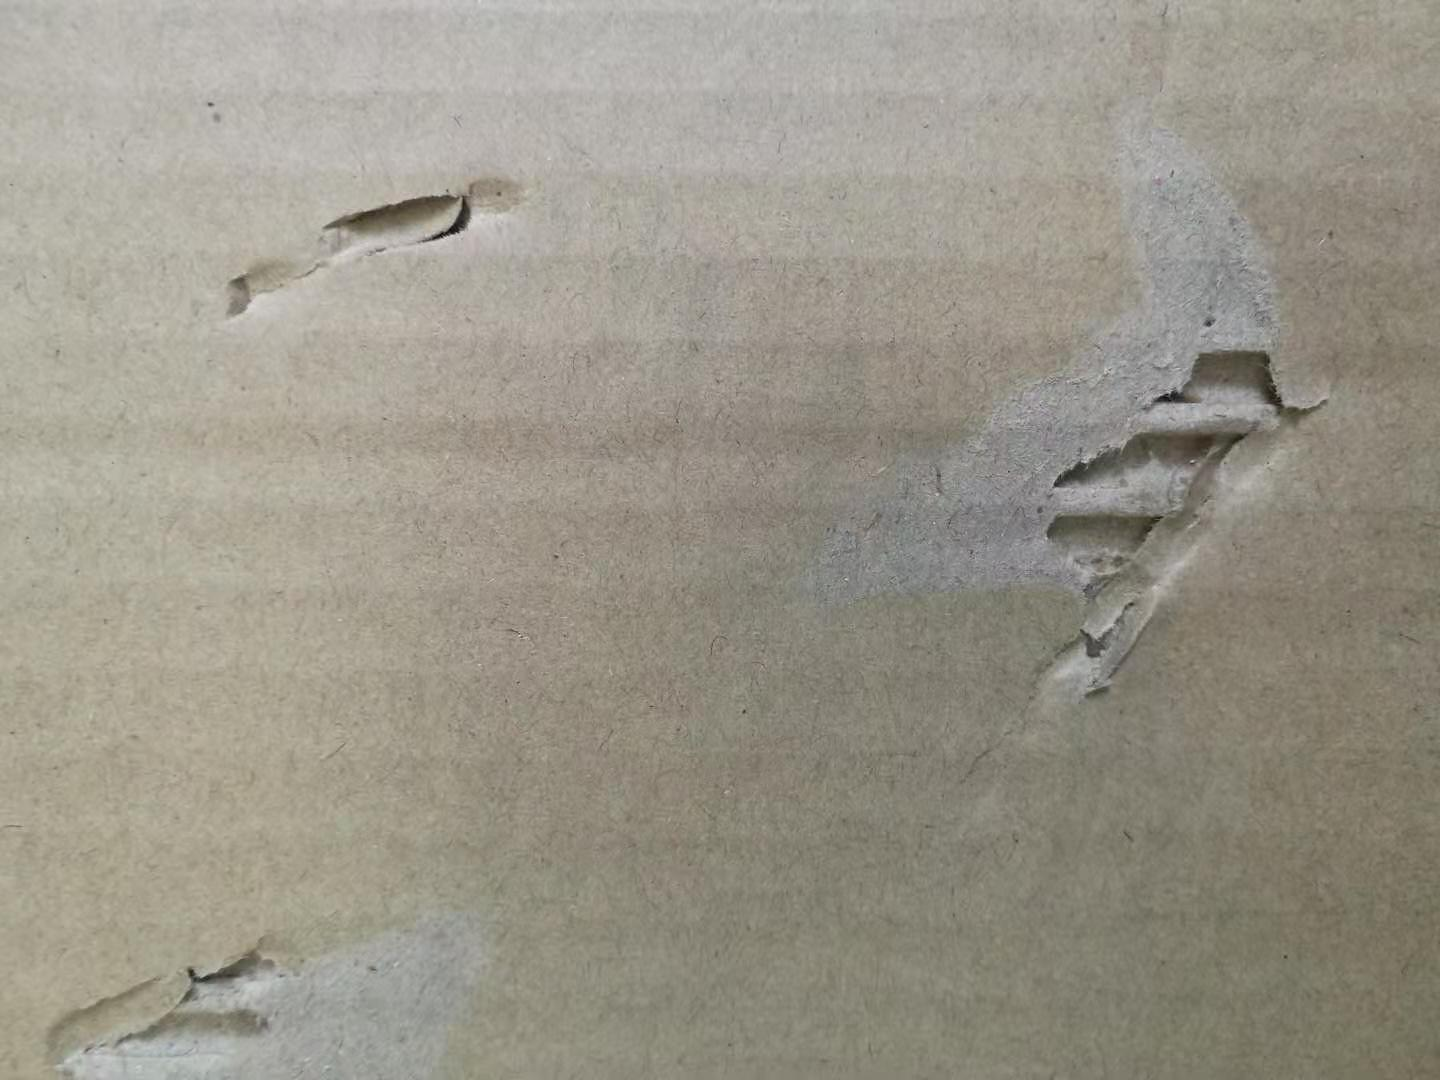defect: (736, 74, 1380, 805), (34, 867, 536, 1080), (200, 151, 550, 334)
